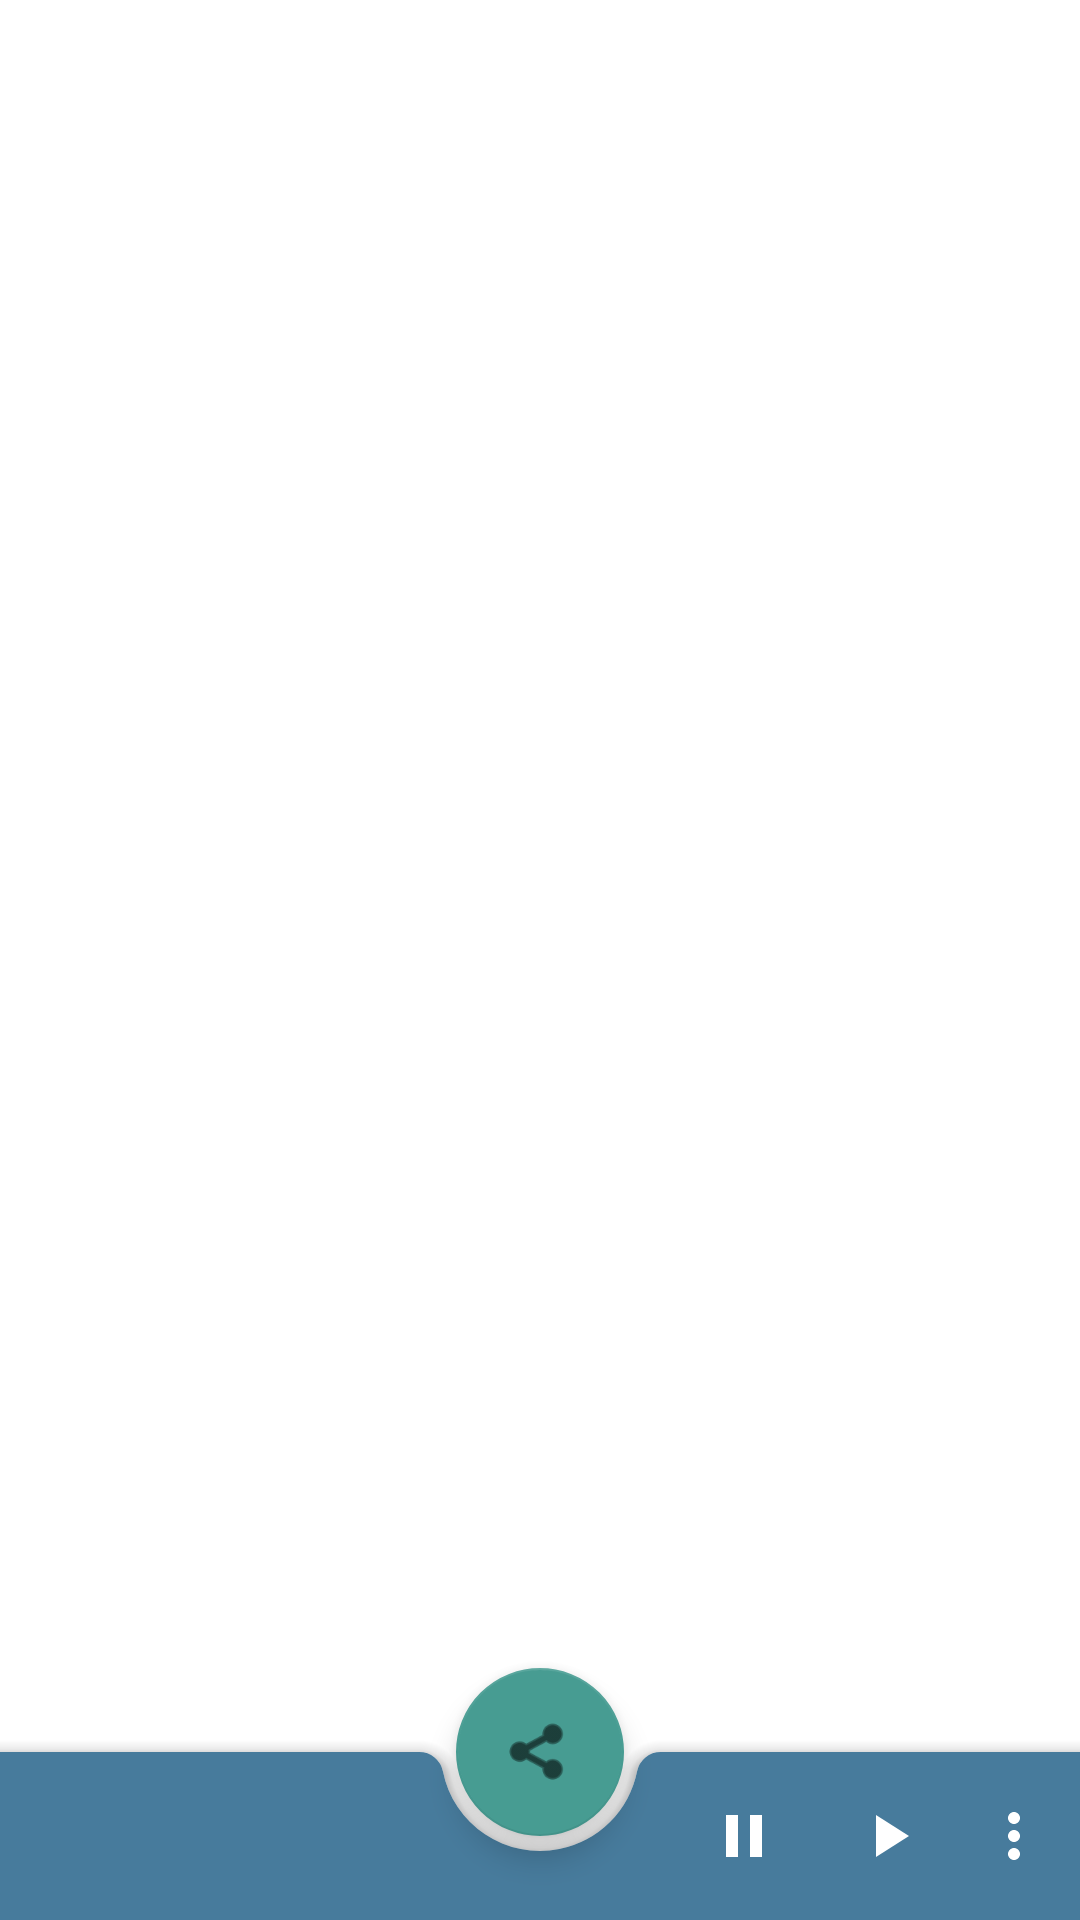

Screen size 1080 × 1920. Icon name, then its center in pixels as [x,y]:
share: [540,1752]
